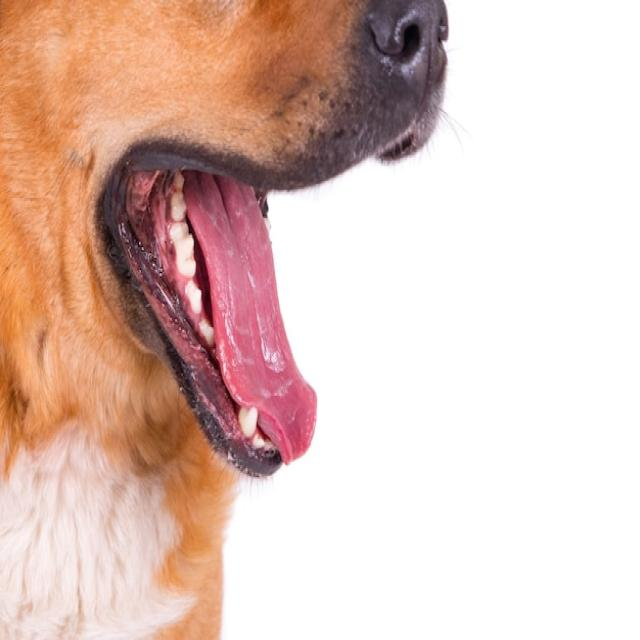Dog: (0, 0, 450, 640)
